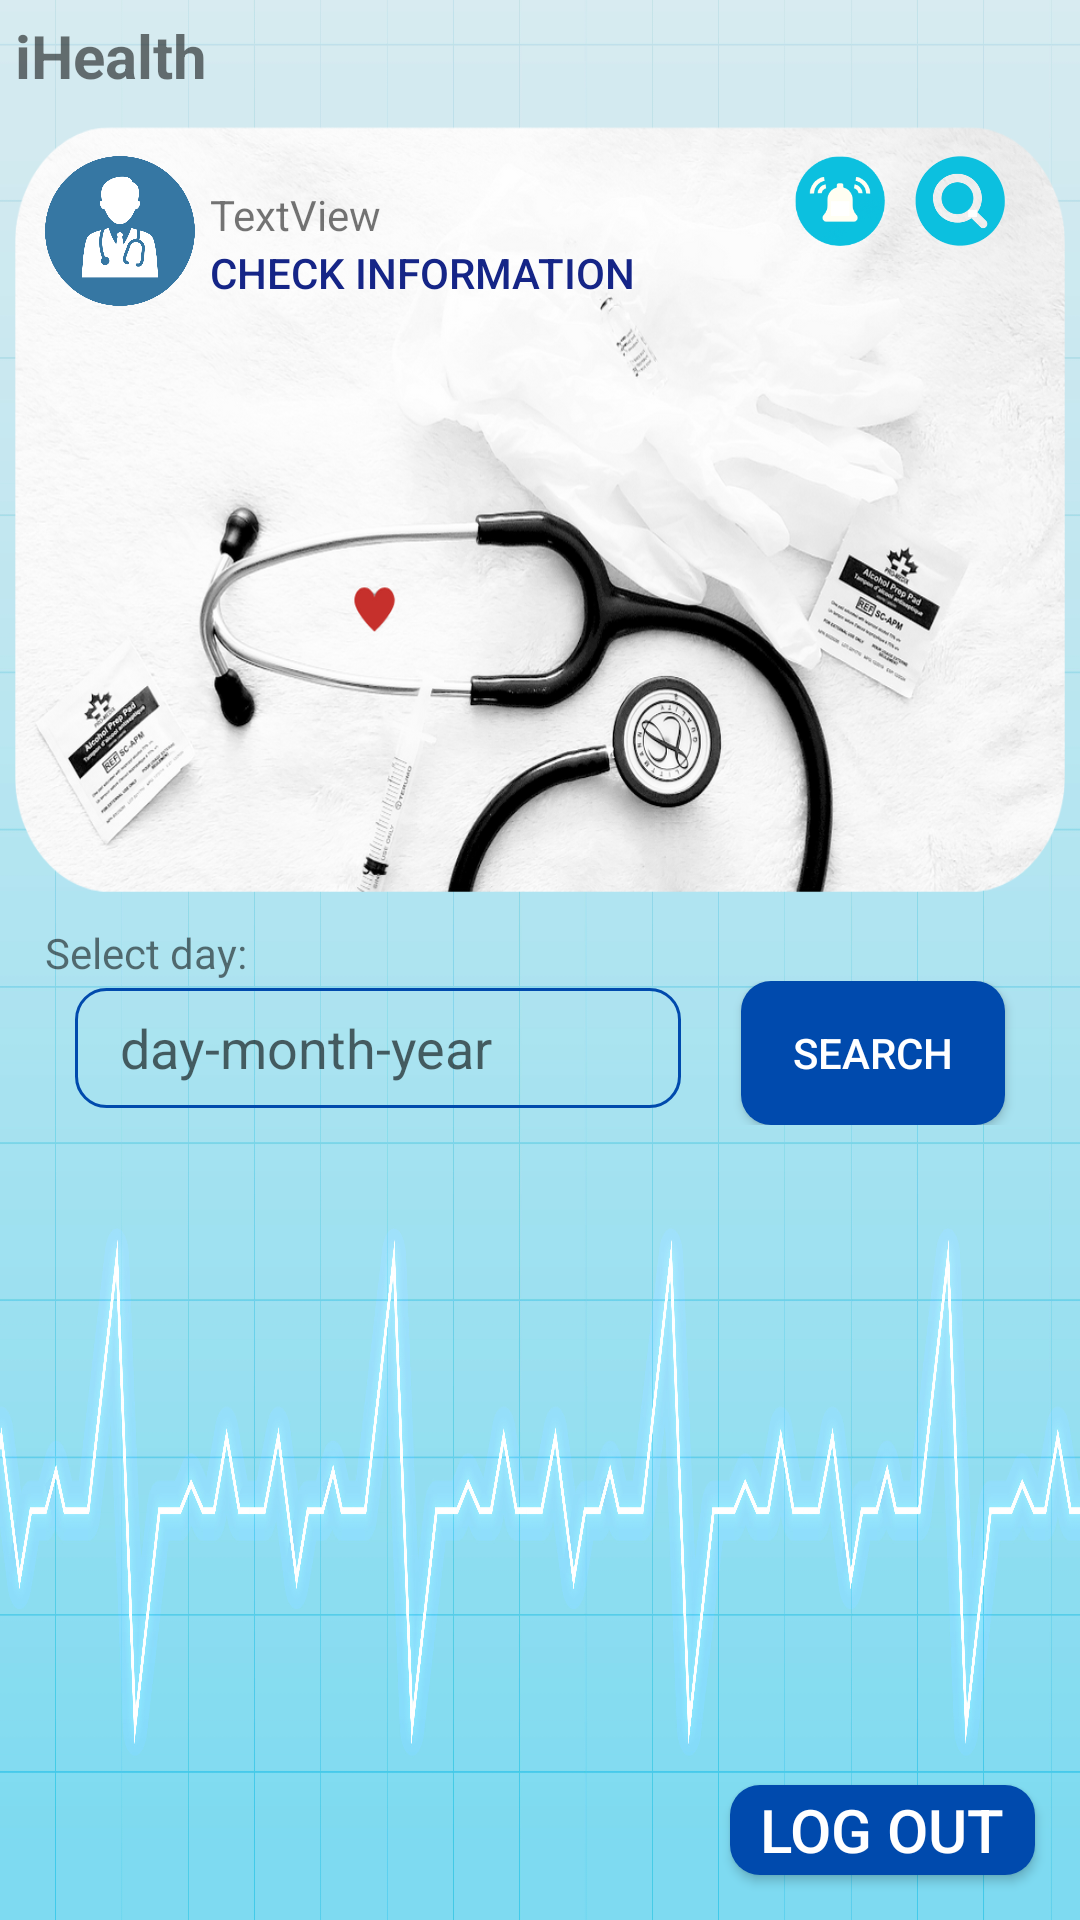

Screen size 1080 x 1920. Icon name, then its center in pixels as (x=x, y=y):
doctor: (x=120, y=231)
